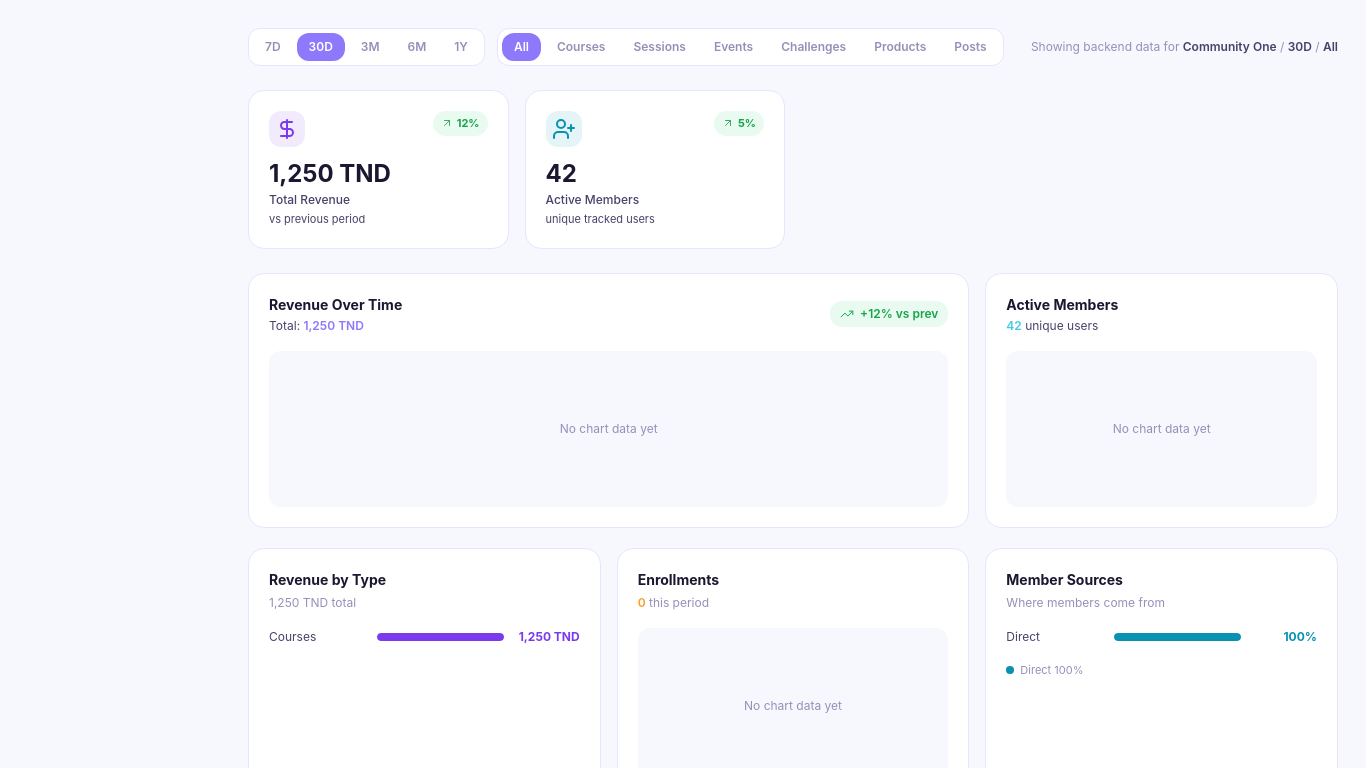
Test: Creator analytics dashboard › updates the dashboard query when period and content filters change
Click the button "7D" at (273, 47), box [253, 33, 293, 61]
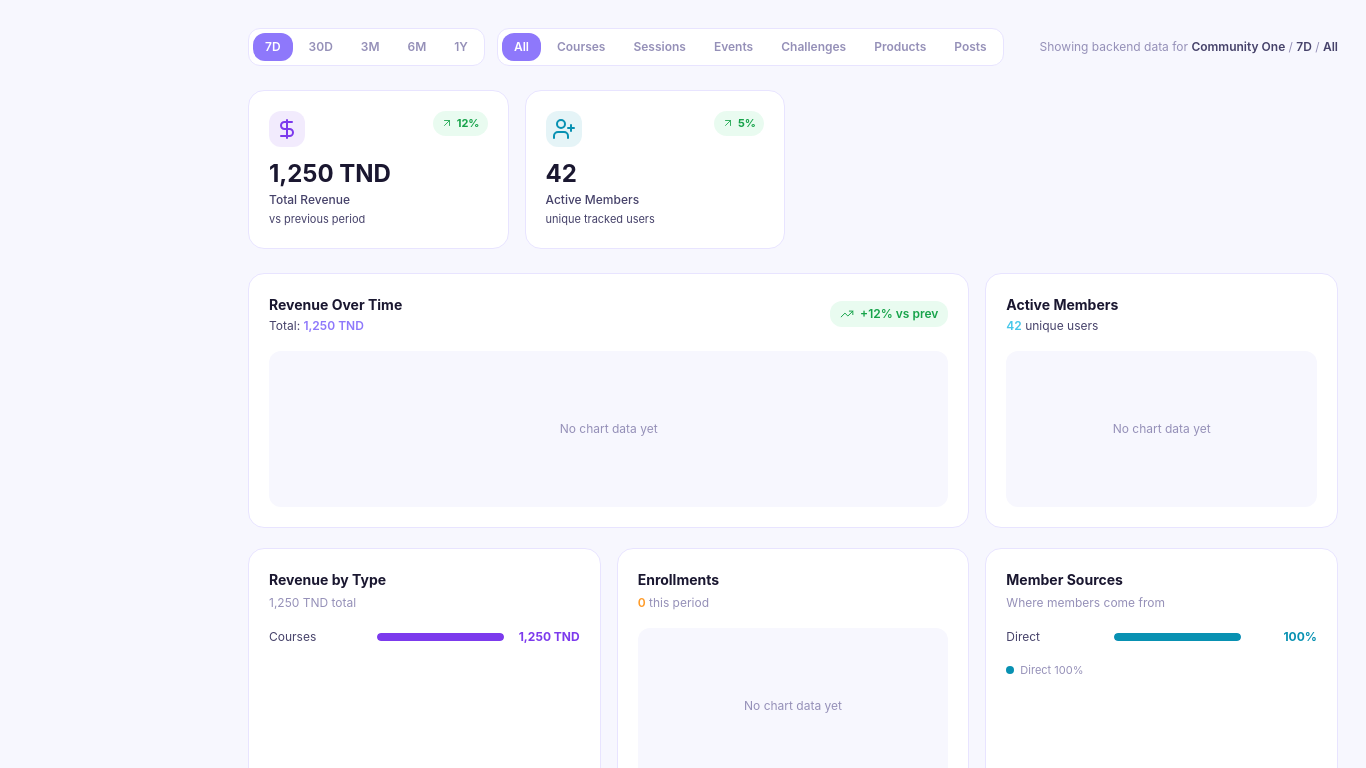
Click the button "Posts" at (970, 47), box [942, 33, 999, 61]
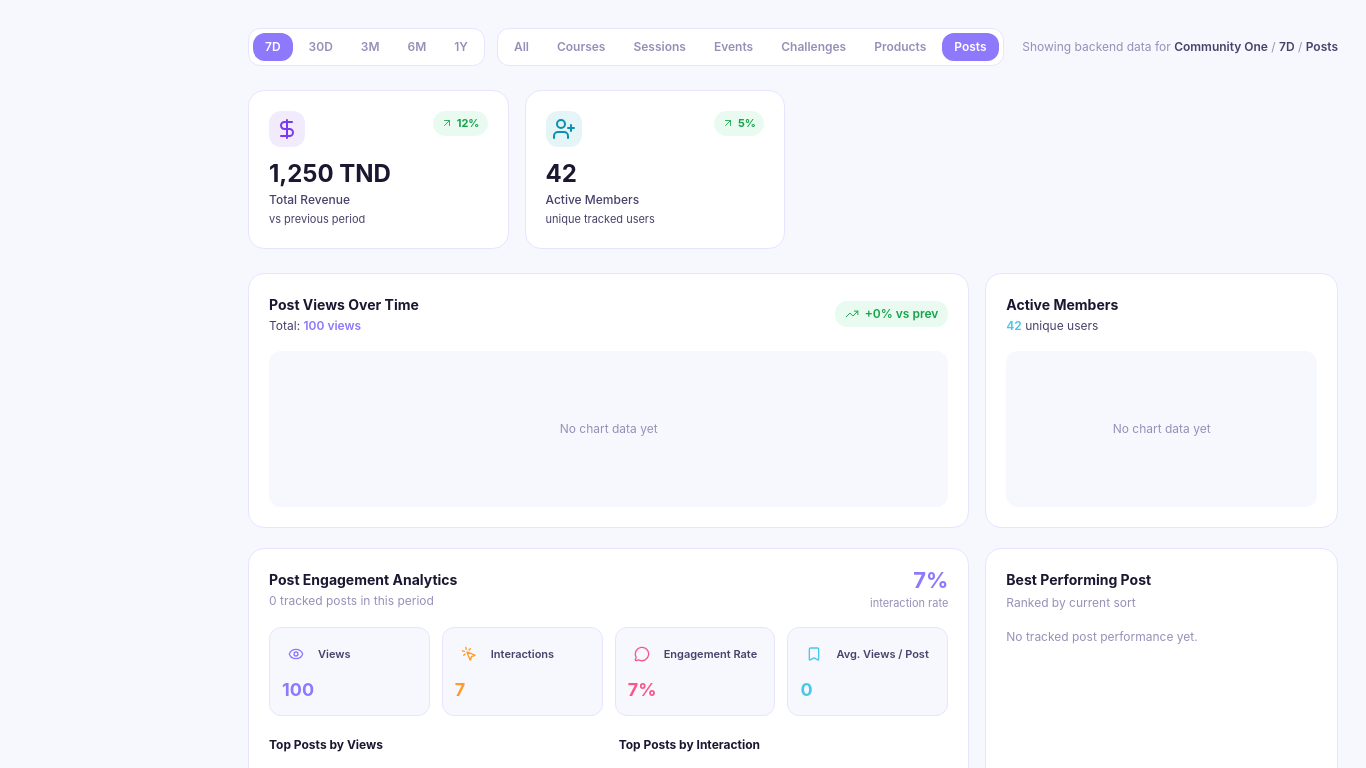
Expected: the text "Post Engagement Analytics" is shown, [269, 568, 457, 590]
